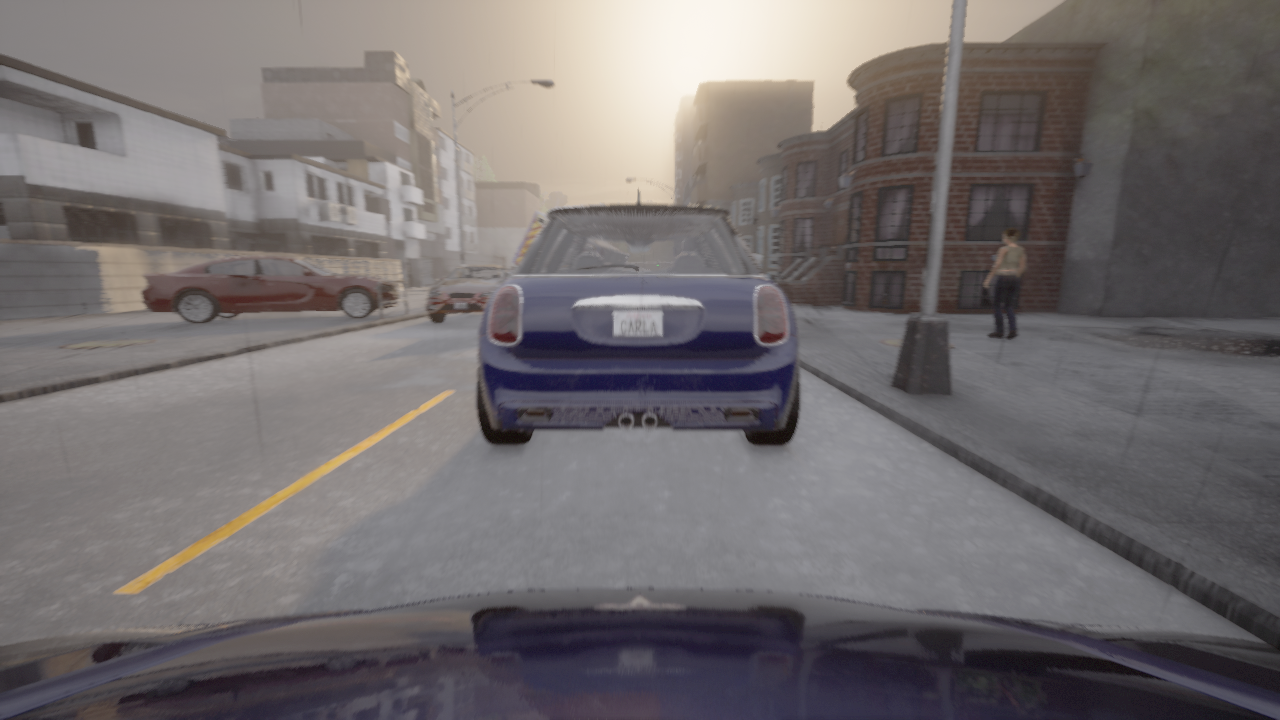cyclist: (0, 588, 1279, 719), (476, 188, 800, 444), (141, 254, 399, 323), (425, 264, 509, 323), (506, 210, 547, 274)
pedestrian: (984, 228, 1024, 338)
